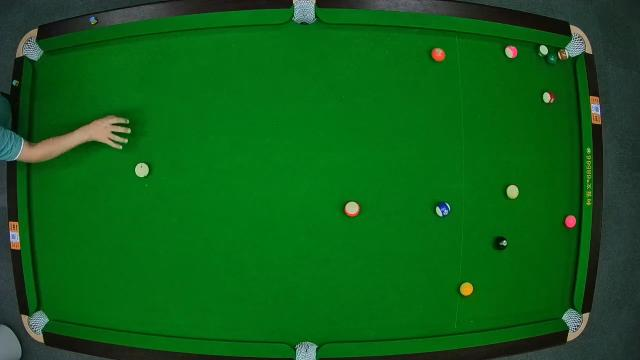bag1: (22, 38, 44, 60)
bag2: (291, 0, 317, 26)
bag3: (566, 29, 588, 57)
bag4: (29, 310, 49, 334)
bag5: (294, 340, 318, 360)
bag6: (563, 308, 585, 332)
ball0: (134, 162, 150, 178)
ball1: (459, 280, 473, 296)
ball10: (435, 202, 451, 218)
ball11: (541, 90, 555, 104)
ball12: (502, 42, 518, 58)
ball13: (344, 200, 361, 218)
ball14: (536, 43, 550, 58)
ball15: (558, 48, 572, 63)
ball4: (563, 215, 577, 229)
ball5: (432, 46, 446, 62)
ball6: (546, 53, 558, 65)
ball8: (494, 236, 508, 251)
ball9: (506, 185, 520, 199)
